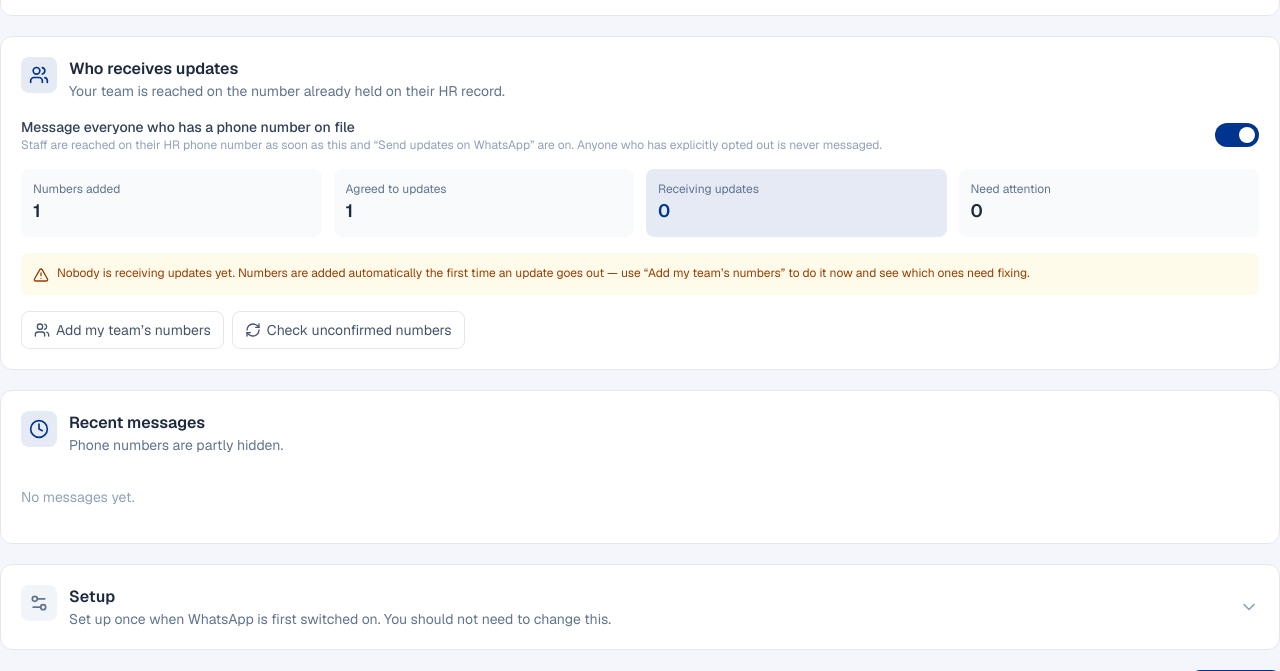
Test: WhatsAppSettingsSection — carbon copy › shows the watcher number when copying is on
(page scrolled)
Click the button "Setup" at (39, 603), box [1, 565, 1279, 649]
(page scrolled)
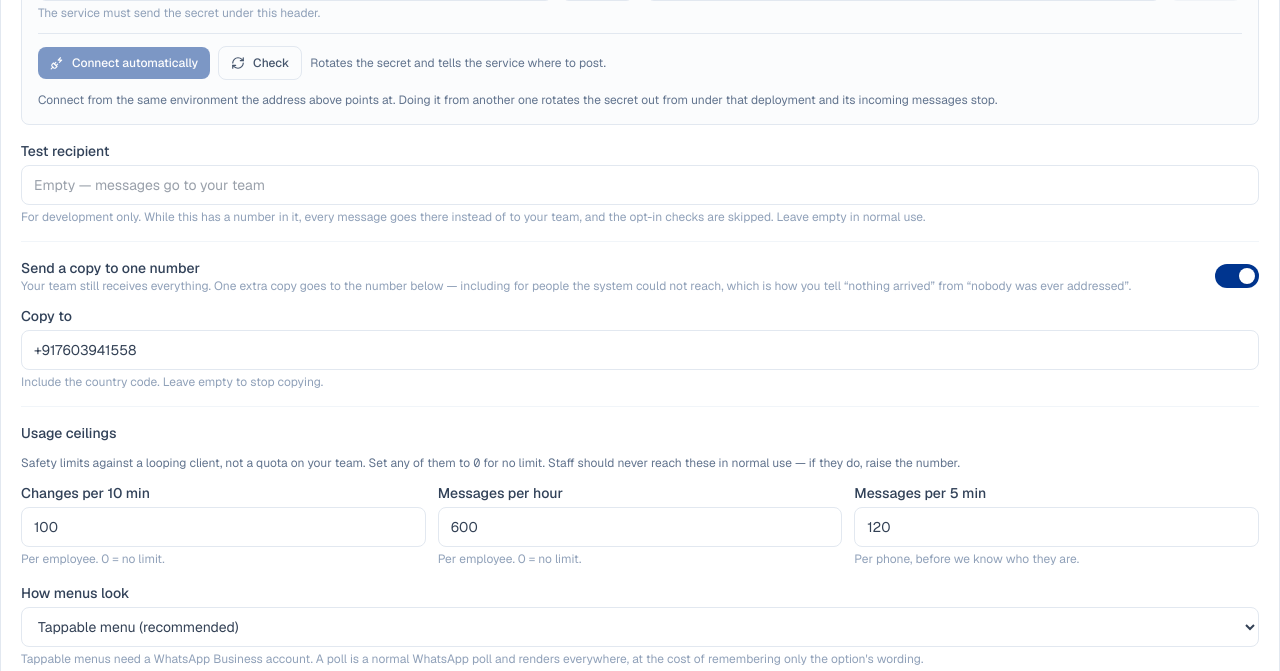
Check: the field with placeholder "Empty — no copies are sent" holds "+917603941558", box [21, 330, 1259, 370]
